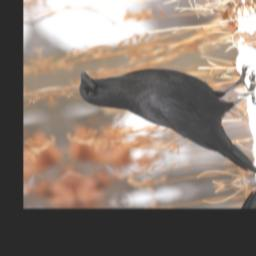Crow: (70, 43, 256, 200)
